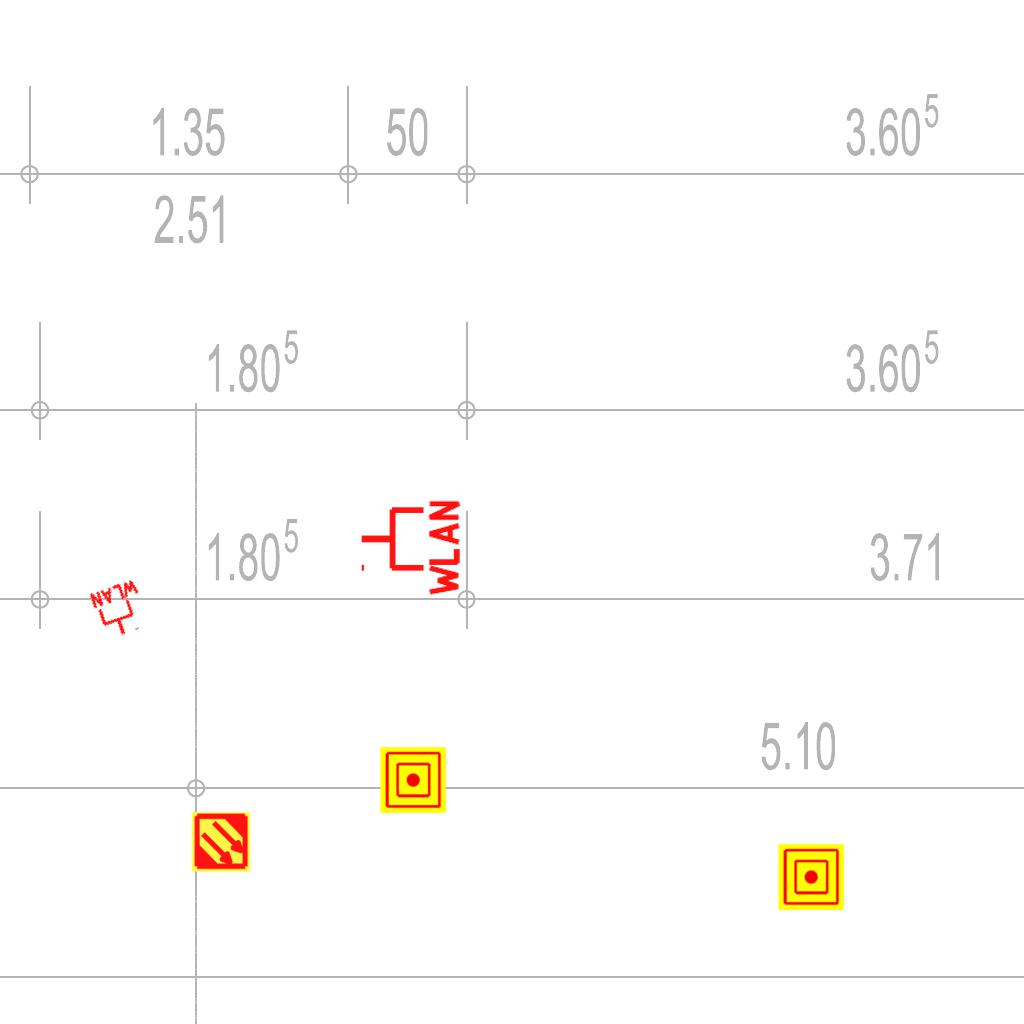ASR_Ansaugrauchmelder: (190, 811, 252, 873)
NAM-Nichtautomatischer_Melder: (778, 844, 844, 910), (380, 747, 446, 813)
WLAN: (357, 496, 462, 600), (86, 576, 154, 644)
